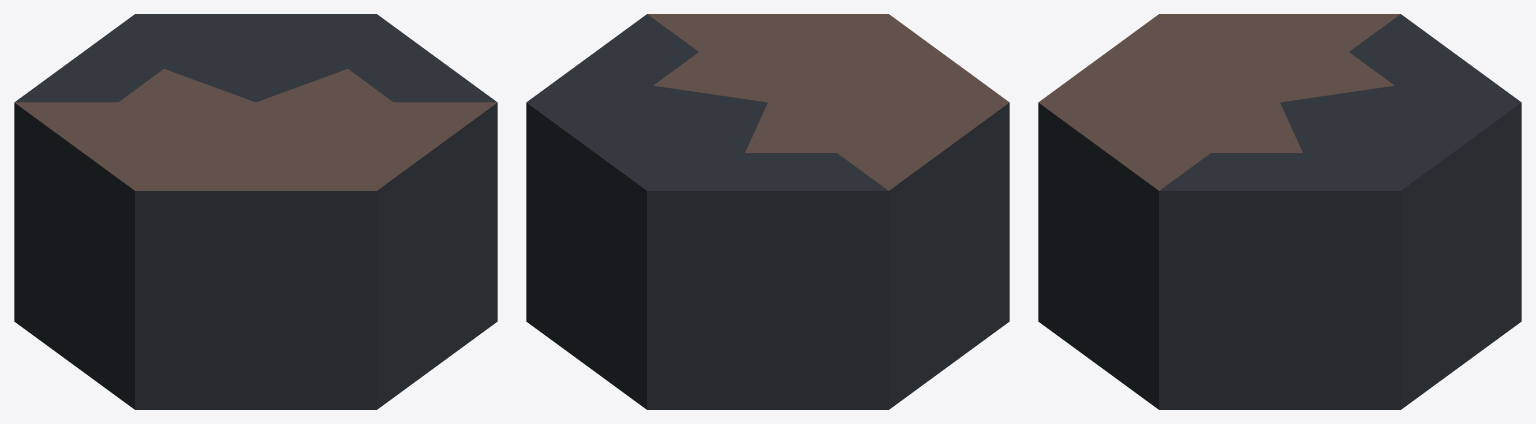
File: AE_Hex_Lava_Scoria.fbx
3 renders of one model, left to right at view 1: azimuth 30°, elevation 25°; view 2: azimuth 150°, elevation 25°; view 3: azimuth 270°, elevation 25°, orthographic.
Visible parts, largest first — view 1: AE_Hex_Lava_Scoria; view 2: AE_Hex_Lava_Scoria; view 3: AE_Hex_Lava_Scoria.
Boxes of the visible parts, x1,y1,x2,y2 form: AE_Hex_Lava_Scoria: (14,14,497,409); AE_Hex_Lava_Scoria: (526,14,1009,409); AE_Hex_Lava_Scoria: (1038,14,1521,409).
Size of the model in its own units: 1.73 by 1 by 2.
